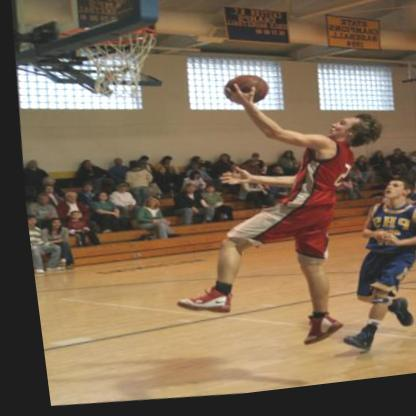basketball: (216, 76, 268, 112)
rim: (65, 22, 159, 54)
